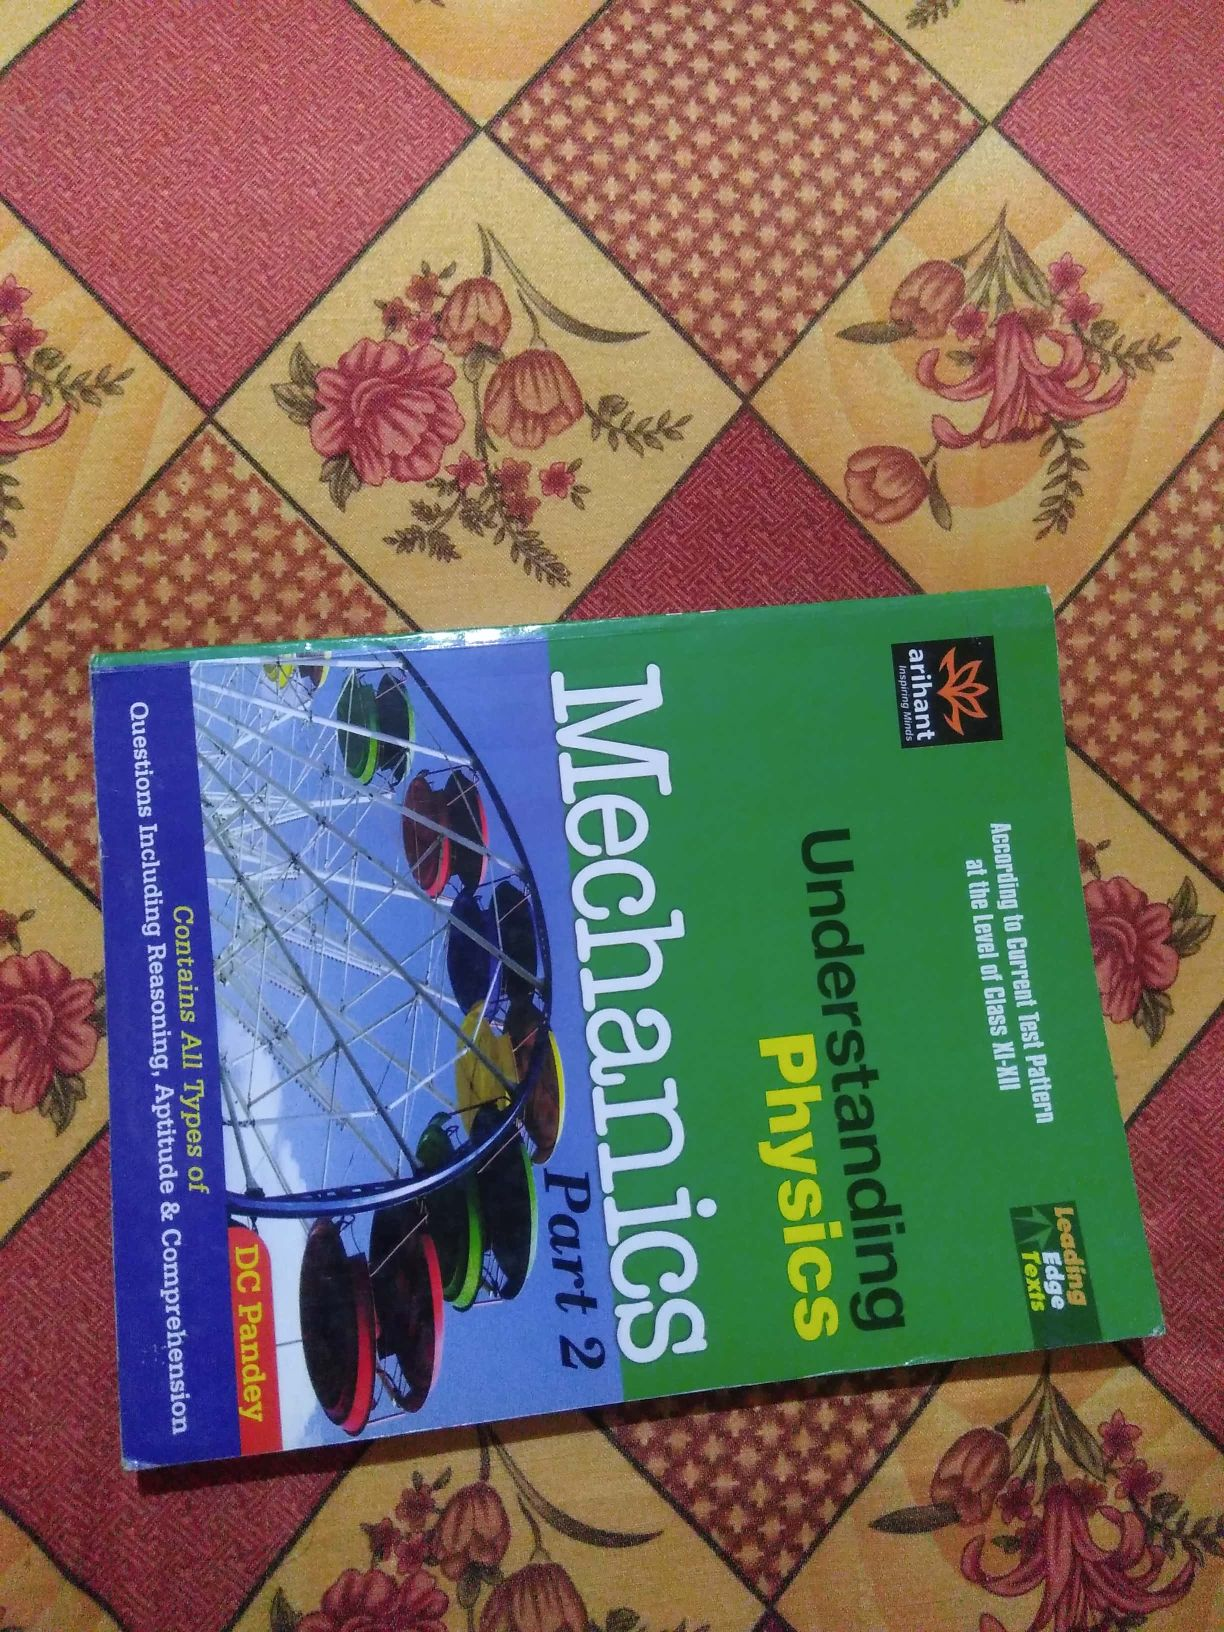mechanics: (46, 565, 1197, 1465)
